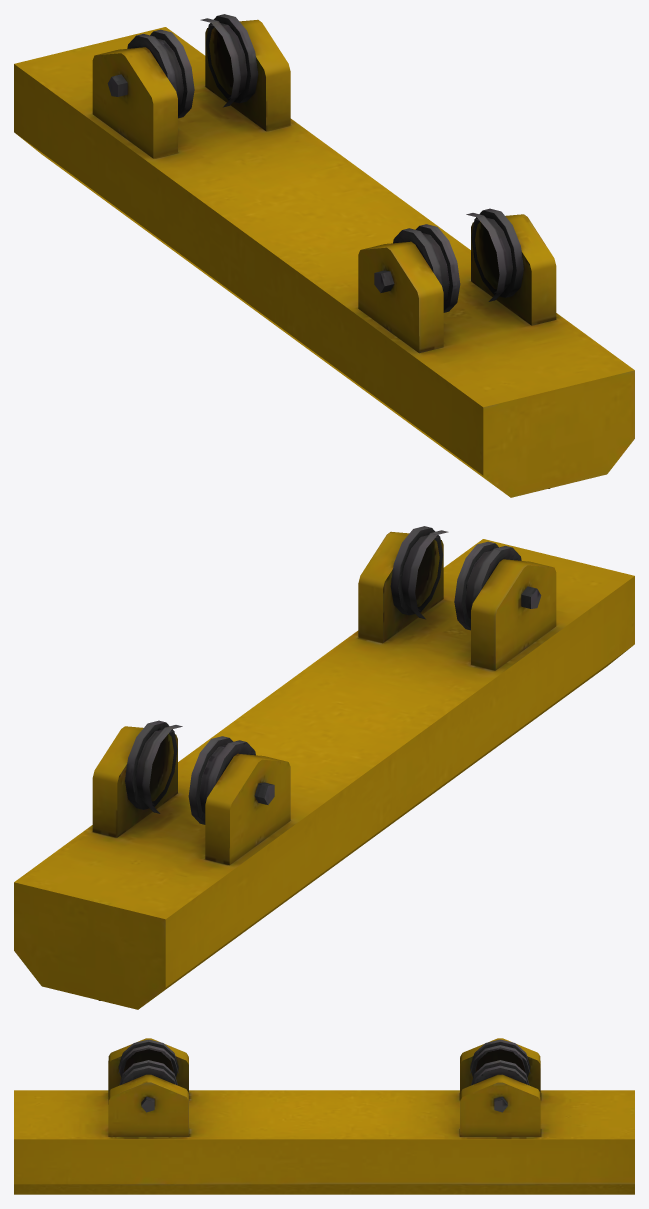
3 views of the same model, one above another, from view 1: azimuth 30°, elevation 25°; view 2: azimuth 150°, elevation 25°; view 3: azimuth 270°, elevation 25° (orthographic). The views are drawn at different scales.
Parts seen in each view (by area): view 1: body0_model0_lod0_mesh0; view 2: body0_model0_lod0_mesh0; view 3: body0_model0_lod0_mesh0.
Part boxes in pixels (box(x1,y1,x2,y2)): body0_model0_lod0_mesh0: box(14, 14, 634, 497); body0_model0_lod0_mesh0: box(14, 526, 634, 1009); body0_model0_lod0_mesh0: box(14, 1038, 634, 1194).
Size of the model in its own units: 63.99 by 77.98 by 332.
1 material, 1 textured.
